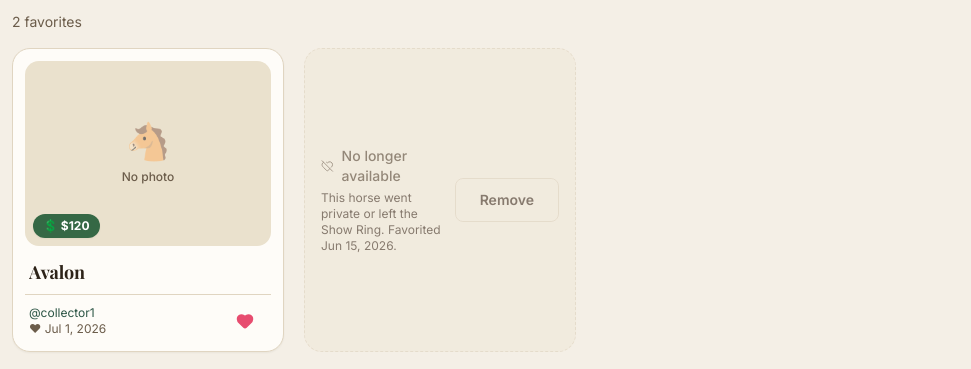
Test case: FavoritesBrowser › removes an unavailable row via its Remove button
Step 1. Click the button with aria-label "Remove unavailable horse from Favorites" → (507, 200), box [455,178,559,222]
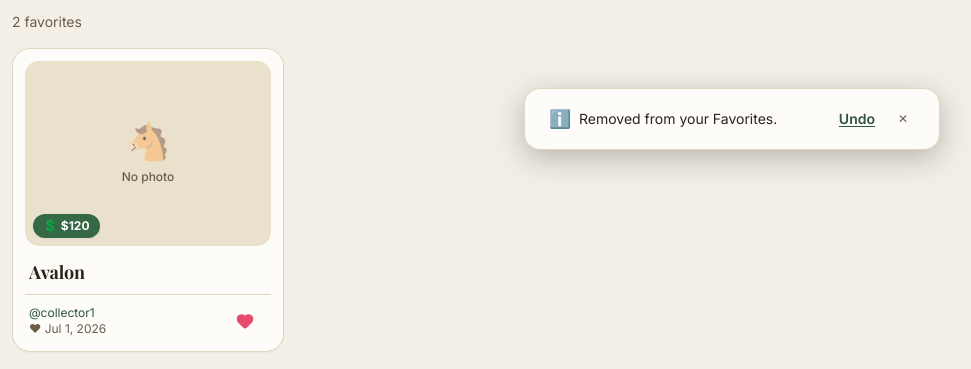
Expected: the text "No longer available" is gone
